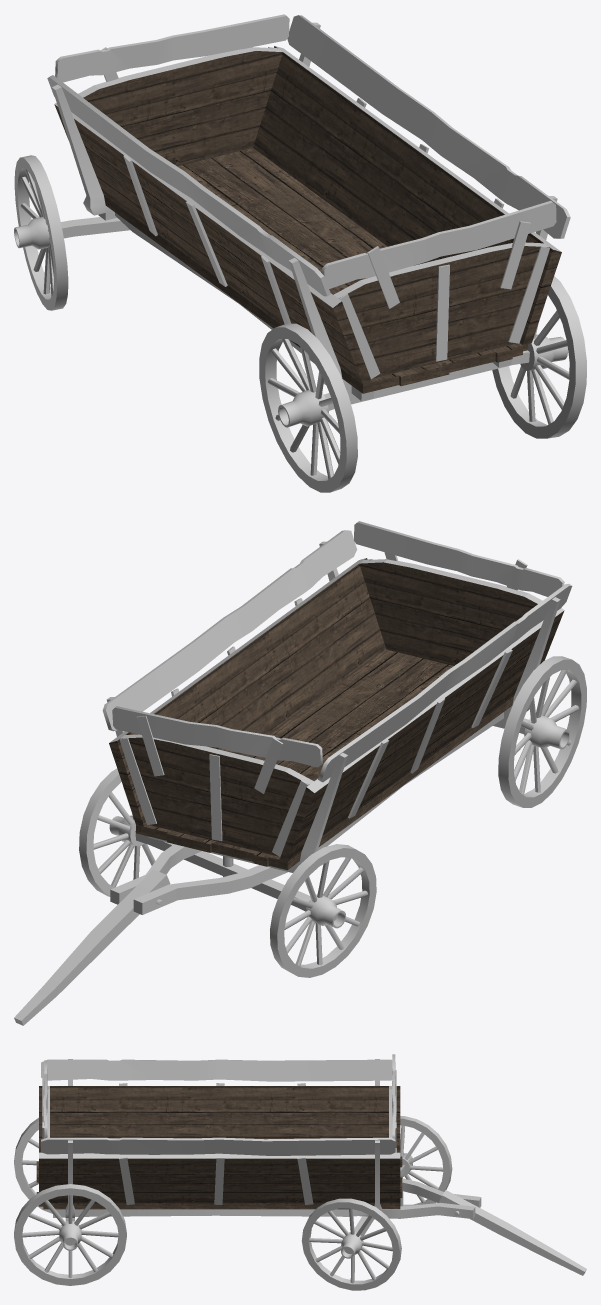
File: f1_haywaggon.fbx
3 renders of one model, top to bottom at view 1: azimuth 30°, elevation 25°; view 2: azimuth 150°, elevation 25°; view 3: azimuth 270°, elevation 25°, orthographic. The views are drawn at different scales.
Visible parts, largest first — view 1: Mesh Object; view 2: Mesh Object; view 3: Mesh Object.
Boxes of the visible parts, <box> form: Mesh Object: <box>14,14,586,492</box>; Mesh Object: <box>14,521,586,1025</box>; Mesh Object: <box>14,1054,586,1290</box>.
Size of the model in its own units: 1.98 by 1.58 by 5.07.
